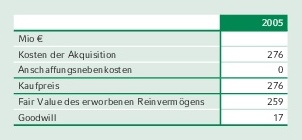table: (0, 0, 302, 140)
